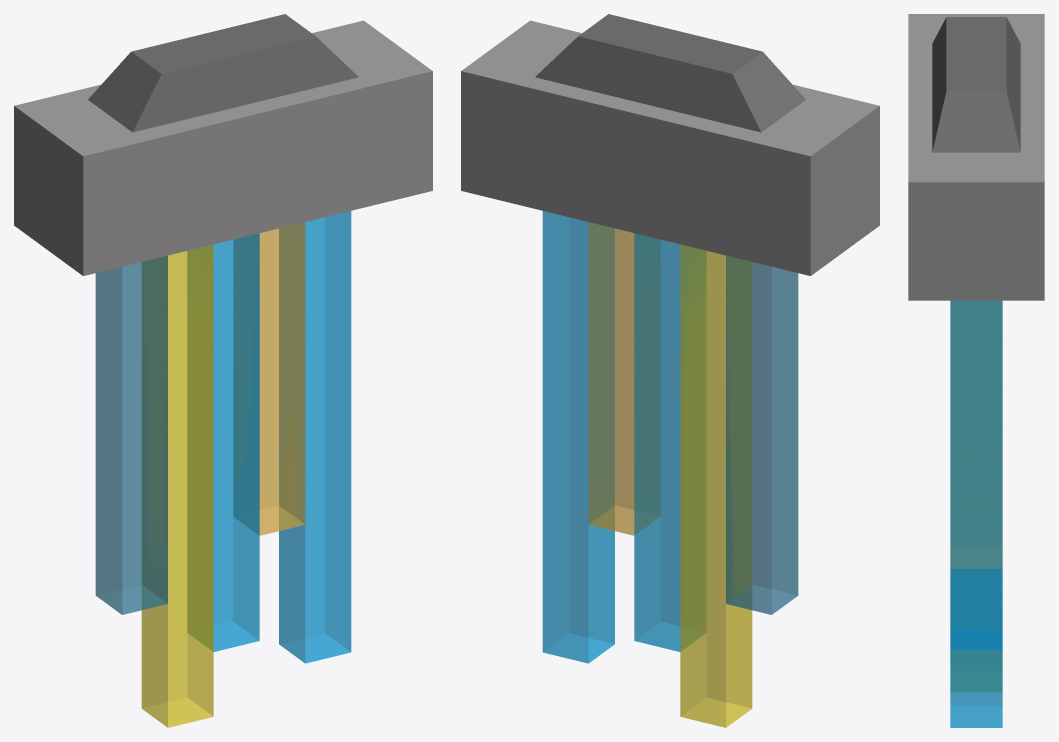
Rendered from MemoryChip.fbx.
The picture shows the model from 3 angles, left to right: view 1: azimuth 30°, elevation 25°; view 2: azimuth 150°, elevation 25°; view 3: azimuth 270°, elevation 25°; orthographic projection.
Parts seen in each view (by area): view 1: Cube; view 2: Cube; view 3: Cube.
Boxes of the visible parts, box(x1,y1,x2,y2) form: Cube: box(14, 14, 432, 727); Cube: box(461, 14, 879, 727); Cube: box(908, 14, 1044, 727).
Bounding box in the file's own units: 0.7663 × 4.02 × 2.24.
